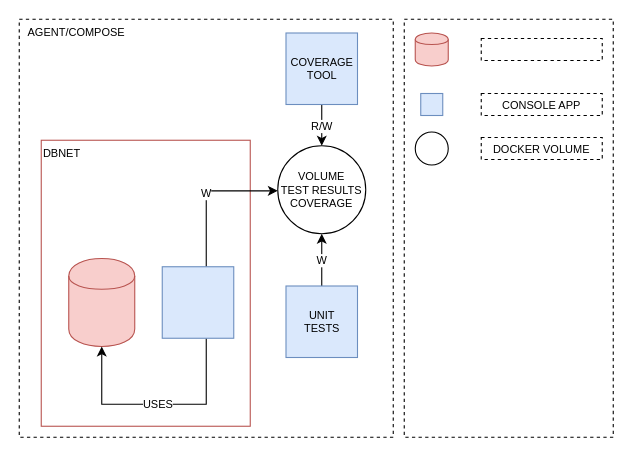
This 633x457 diagram has some shape labels left out. Here are the shapes that lost their labels. From the top down, the centre of each, then its label:
the point at 541,49: DOCKER DATABASE
the point at 101,301: DB
the point at 197,302: INTEG TESTS
